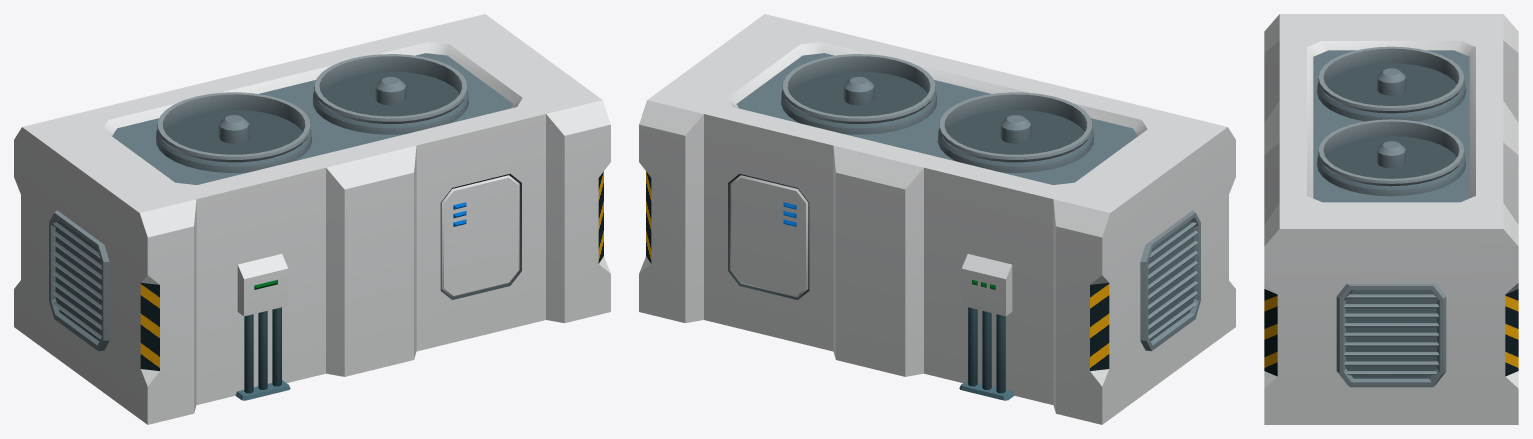
Rendered from Ventilation_007.fbx.
The picture shows the model from 3 angles, left to right: view 1: azimuth 30°, elevation 25°; view 2: azimuth 150°, elevation 25°; view 3: azimuth 270°, elevation 25°; orthographic projection. The views are drawn at different scales.
Visible parts, largest first — view 1: Ventilation_007; view 2: Ventilation_007; view 3: Ventilation_007.
Part boxes in pixels (x1=…): Ventilation_007: x1=14, y1=14, x2=610, y2=424; Ventilation_007: x1=639, y1=14, x2=1235, y2=424; Ventilation_007: x1=1264, y1=14, x2=1518, y2=424.
Size of the model in its own units: 204 by 100 by 90.67.
